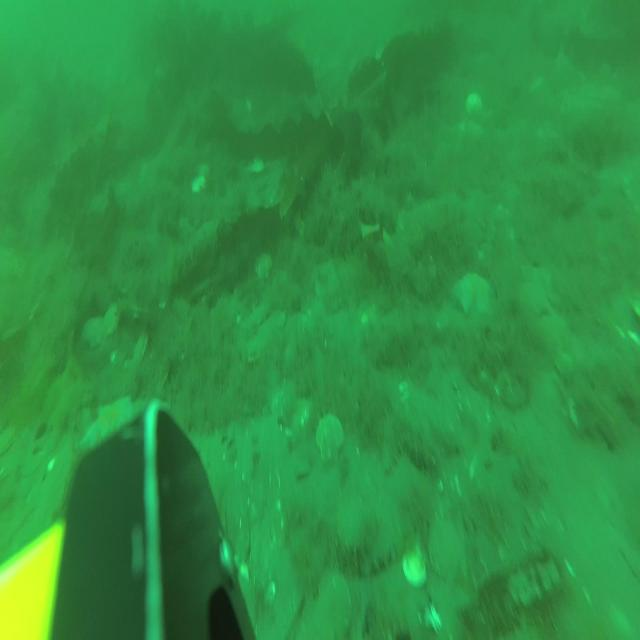scallop: (314, 411, 345, 468), (400, 540, 429, 590), (82, 314, 106, 350), (244, 336, 269, 368), (245, 300, 270, 328), (464, 86, 485, 119), (133, 328, 149, 368), (104, 299, 121, 335), (254, 250, 272, 283), (266, 308, 288, 333)
starfish: (76, 392, 136, 460), (451, 267, 494, 321)
